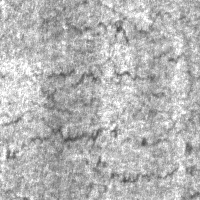crazing: (1, 65, 172, 156), (38, 9, 188, 84), (42, 124, 183, 184)
